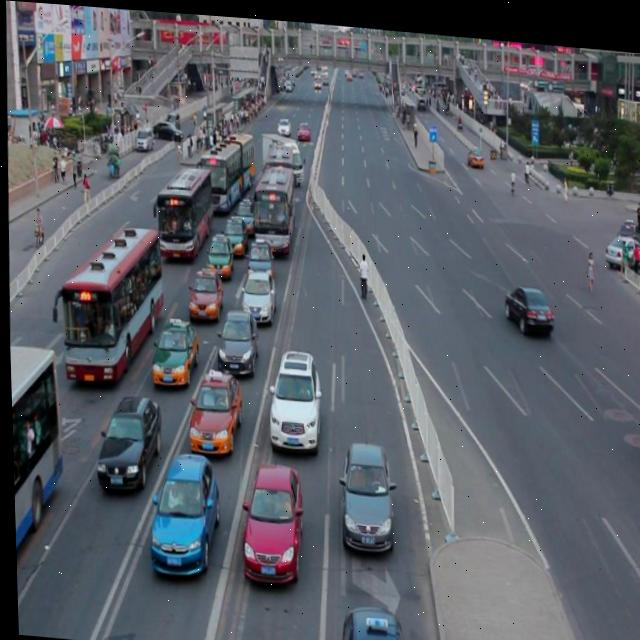bus: (259, 129, 304, 181)
car: (145, 446, 220, 576), (236, 457, 302, 579), (92, 389, 160, 487), (335, 434, 394, 546), (265, 342, 319, 444), (184, 365, 240, 451), (147, 312, 198, 383), (213, 304, 258, 372), (335, 599, 405, 640), (500, 275, 550, 327), (184, 264, 222, 318), (238, 266, 276, 318), (601, 224, 640, 259), (204, 228, 233, 274), (244, 233, 272, 276), (220, 212, 247, 251), (232, 193, 254, 230), (466, 138, 482, 161)
van: (47, 216, 165, 383), (8, 344, 64, 572), (149, 161, 213, 258), (196, 127, 255, 210), (251, 157, 294, 248), (261, 139, 295, 193)
